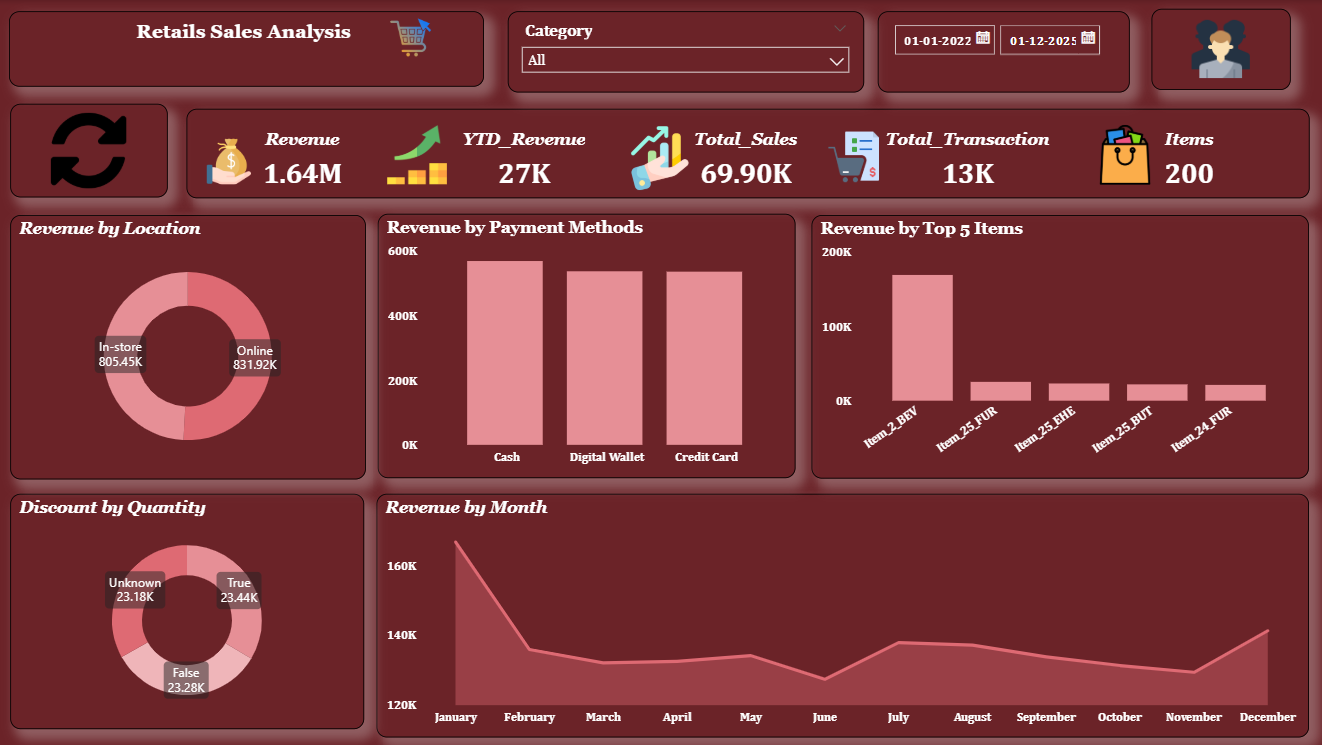

This screenshot's page, from the dashboard's own definition file:
{"tool":"powerbi","page":{"name":"Revenue","canvas":[1280,720],"ordinal":0},"visuals":[{"type":"textbox","box":[9.6,11,458.3,72.7],"z":0},{"type":"cardVisual","fields":{"Data":["Meausre.Revenue","Meausre.Ytd_Revenue","Meausre.Total_QTY","Meausre.Total_Transaction","Meausre.Customer"]},"box":[181.5,104.5,1083.6,86.6],"z":1000},{"type":"areaChart","title":"Revenue by Month","fields":{"Category":["Calender.Date.Variation.Date Hierarchy.Month"],"Y":["Sum(Retails.Total_Spent)"]},"box":[364.3,476.5,900,235.3],"z":2000},{"type":"donutChart","title":"Discount by Quantity","fields":{"Category":["Retails.Discount_Applied"],"Y":["Sum(Retails.Quantity)"]},"box":[10.9,476.5,341.4,226.8],"z":3000},{"type":"clusteredColumnChart","title":"Revenue by Top 5 Items","fields":{"Category":["Retails.Item"],"Y":["Sum(Retails.Total_Spent)"]},"box":[783.8,207.7,479.9,254.4],"z":4000},{"type":"clusteredColumnChart","title":"Revenue by Payment Methods","fields":{"Category":["Retails.Payment_Method"],"Y":["Sum(Retails.Total_Spent)"]},"box":[365,205.8,403.4,255.2],"z":5000},{"type":"donutChart","title":"Revenue by Location","fields":{"Category":["Retails.Location"],"Y":["Sum(Retails.Total_Spent)"]},"box":[11,207.2,343.1,255.2],"z":6000},{"type":"slicer","fields":{"Values":["Retails.Category"]},"box":[490.9,11,343.8,78.4],"z":7000},{"type":"slicer","fields":{"Values":["Calender.Date"]},"box":[848.5,11,243.4,78.4],"z":8000},{"type":"image","box":[1112.9,8.2,134.5,78.2],"z":9000},{"type":"image","box":[11,100.2,152.3,90.6],"z":10000},{"type":"image","box":[325.2,11,142.7,50.8],"z":11000},{"type":"image","box":[182.5,129,79.6,53.5],"z":12000},{"type":"image","box":[352.7,115.3,102.9,67.2],"z":13000},{"type":"image","box":[566.7,116.6,141.3,71.4],"z":14000},{"type":"image","box":[768.4,120.8,112.5,61.7],"z":15000},{"type":"image","box":[1051.1,115.3,71.4,67.2],"z":16000}]}

Visuals, with their boxes in screenshot pixels (x1, y1, x2, y2), scaled from the page's 1280x720 canvas onto the 1322x745 screenshot:
textbox: {"x1": 10, "y1": 11, "x2": 483, "y2": 87}
cardVisual - Meausre.Revenue x Meausre.Ytd_Revenue: {"x1": 187, "y1": 108, "x2": 1307, "y2": 198}
"Revenue by Month" areaChart: {"x1": 376, "y1": 493, "x2": 1306, "y2": 737}
"Discount by Quantity" donutChart: {"x1": 11, "y1": 493, "x2": 364, "y2": 728}
"Revenue by Top 5 Items" clusteredColumnChart: {"x1": 810, "y1": 215, "x2": 1305, "y2": 478}
"Revenue by Payment Methods" clusteredColumnChart: {"x1": 377, "y1": 213, "x2": 794, "y2": 477}
"Revenue by Location" donutChart: {"x1": 11, "y1": 214, "x2": 366, "y2": 478}
slicer - Retails.Category: {"x1": 507, "y1": 11, "x2": 862, "y2": 93}
slicer - Calender.Date: {"x1": 876, "y1": 11, "x2": 1128, "y2": 93}
image: {"x1": 1149, "y1": 8, "x2": 1288, "y2": 89}
image: {"x1": 11, "y1": 104, "x2": 169, "y2": 197}
image: {"x1": 336, "y1": 11, "x2": 483, "y2": 64}
image: {"x1": 188, "y1": 133, "x2": 271, "y2": 189}
image: {"x1": 364, "y1": 119, "x2": 471, "y2": 189}
image: {"x1": 585, "y1": 121, "x2": 731, "y2": 195}
image: {"x1": 794, "y1": 125, "x2": 910, "y2": 189}
image: {"x1": 1086, "y1": 119, "x2": 1159, "y2": 189}
